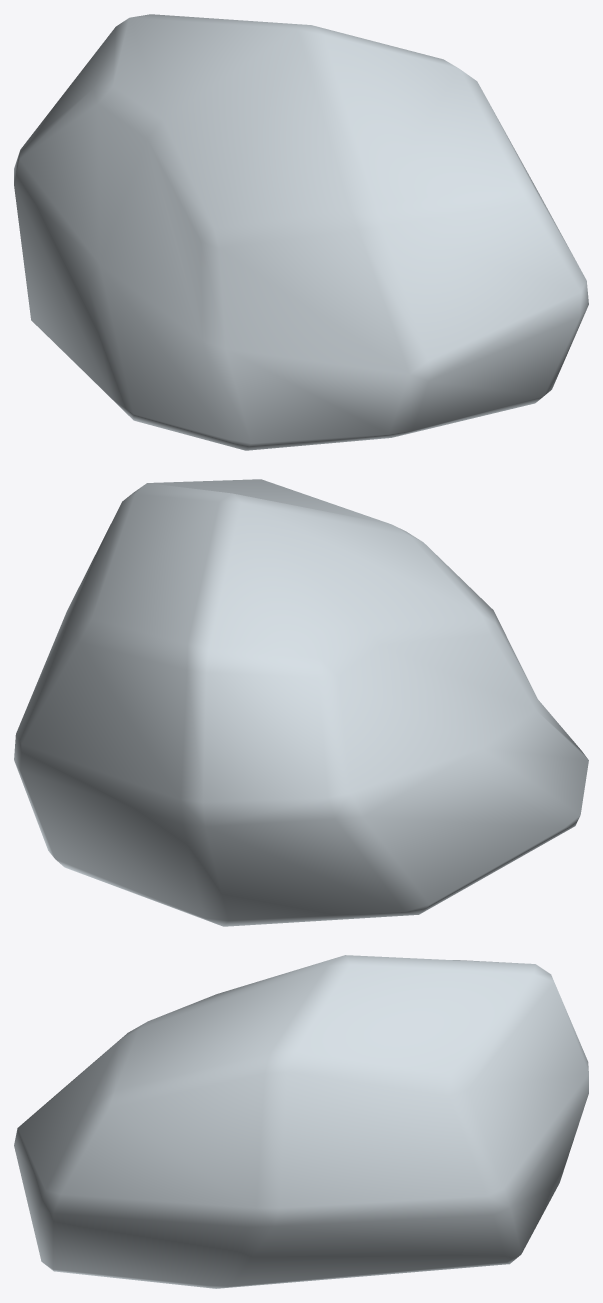
The model's file is stone1.fbx.
3 views of the same model, one above another, from view 1: azimuth 30°, elevation 25°; view 2: azimuth 150°, elevation 25°; view 3: azimuth 270°, elevation 25° (orthographic). The views are drawn at different scales.
Visible parts, largest first — view 1: stone1; view 2: stone1; view 3: stone1.
Part boxes in pixels (x1,y1,x2,y2): stone1: [14, 14, 588, 450]; stone1: [14, 479, 588, 926]; stone1: [14, 955, 588, 1288].
Bounding box in the file's own units: 56.5 × 35.92 × 67.87.
